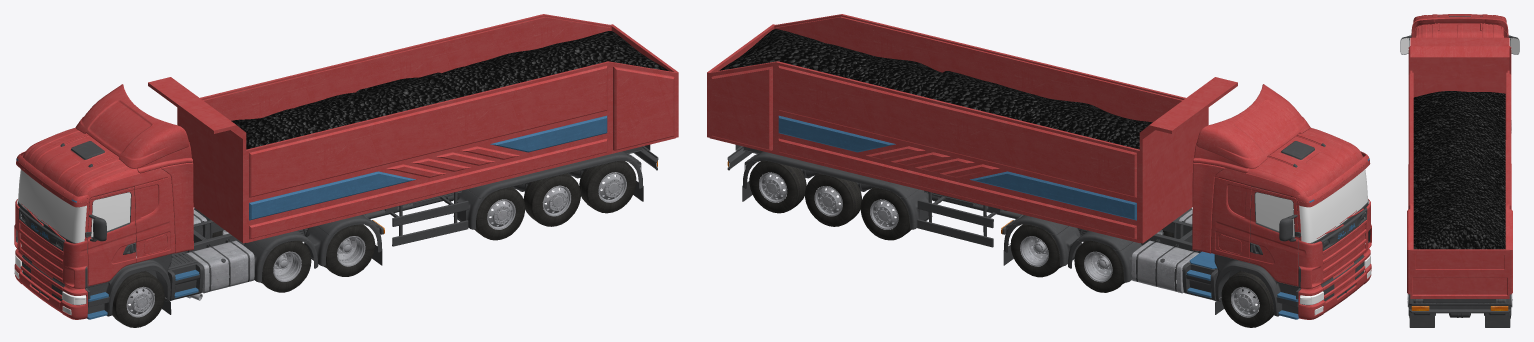
3 views of the same model, side by side, from view 1: azimuth 30°, elevation 25°; view 2: azimuth 150°, elevation 25°; view 3: azimuth 270°, elevation 25° (orthographic). The views are drawn at different scales.
Visible parts, largest first — view 1: 重车11, 重车02, 重车08, 重车06, 重车04, 重车16, 重车017, 重车09, 重车07, 重车03; view 2: 重车11, 重车02, 重车08, 重车06, 重车04, 重车16, 重车017, 重车09, 重车07, 重车03; view 3: 重车11, 重车16, 重车017, 重车02, 重车08, 重车10, 重车01.
Boxes of the visible parts, bbox=[...] form: 重车11: bbox=[148, 14, 678, 243]; 重车02: bbox=[14, 84, 193, 319]; 重车08: bbox=[16, 141, 658, 316]; 重车06: bbox=[88, 160, 636, 327]; 重车04: bbox=[126, 172, 626, 317]; 重车16: bbox=[356, 31, 669, 105]; 重车017: bbox=[231, 72, 460, 149]; 重车09: bbox=[249, 115, 607, 220]; 重车07: bbox=[18, 169, 130, 242]; 重车03: bbox=[16, 158, 199, 319]; 重车11: bbox=[707, 14, 1237, 243]; 重车02: bbox=[1192, 84, 1371, 319]; 重车08: bbox=[727, 141, 1370, 316]; 重车06: bbox=[749, 160, 1273, 327]; 重车04: bbox=[759, 172, 1259, 317]; 重车16: bbox=[719, 29, 1004, 98]; 重车017: bbox=[932, 71, 1152, 149]; 重车09: bbox=[778, 115, 1136, 220]; 重车07: bbox=[1255, 169, 1367, 242]; 重车03: bbox=[1186, 158, 1369, 319]; 重车11: bbox=[1407, 37, 1512, 298]; 重车16: bbox=[1413, 155, 1505, 249]; 重车017: bbox=[1413, 91, 1505, 188]; 重车02: bbox=[1408, 14, 1511, 74]; 重车08: bbox=[1400, 16, 1519, 327]; 重车10: bbox=[1400, 38, 1519, 54]; 重车01: bbox=[1411, 306, 1508, 310].
Bounding box in the file's own units: 12.23 × 3.62 × 2.76.
Materials: 13 (10 with a texture image).
